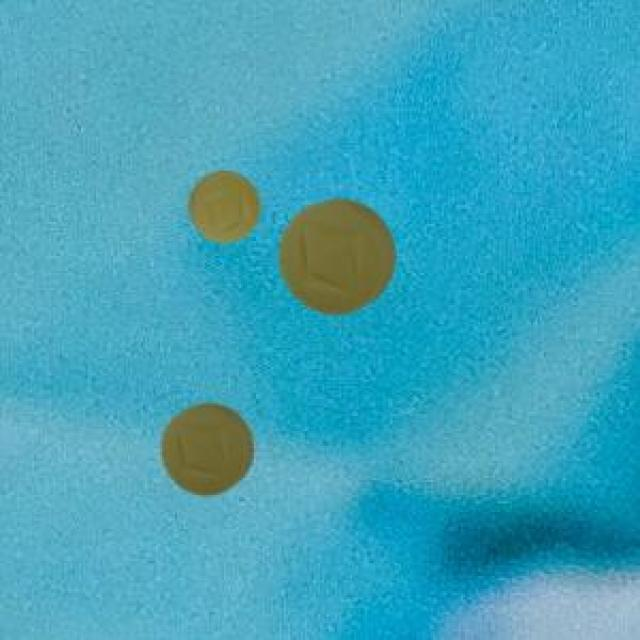Decolgen: (273, 188, 405, 322), (150, 387, 268, 510), (177, 163, 270, 257)
